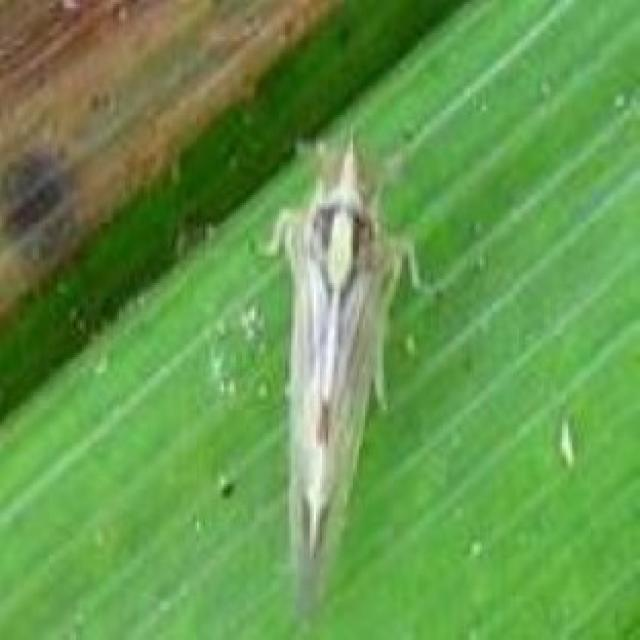brown plant hopper: (269, 135, 400, 609)
